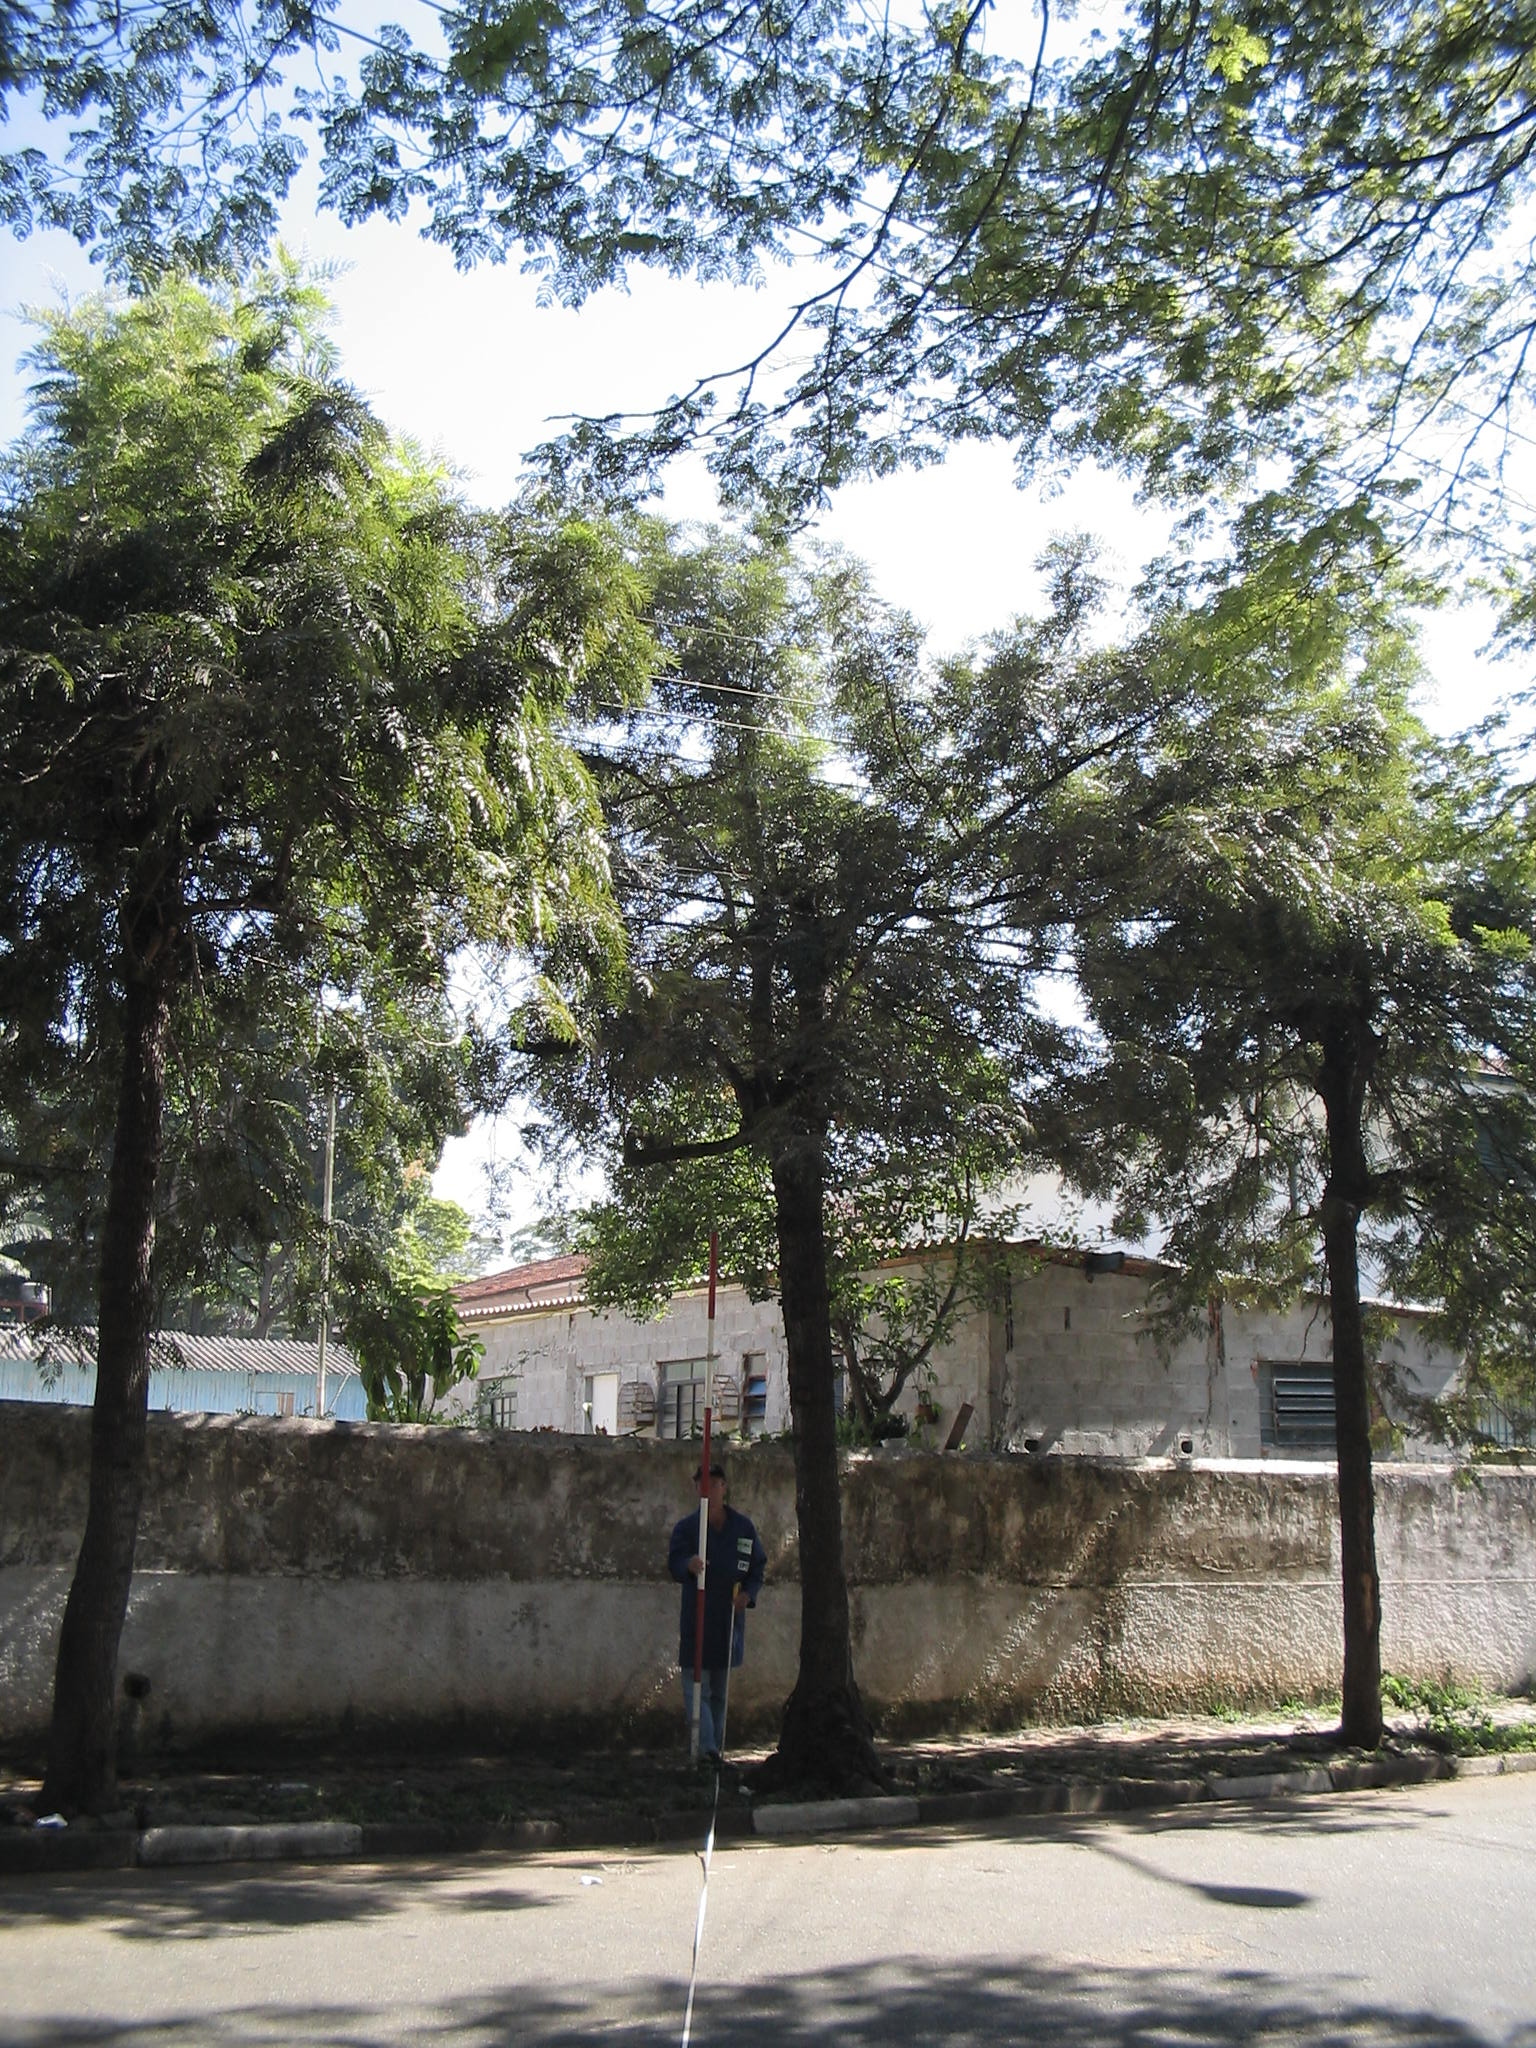crown: (6, 261, 650, 1021), (544, 524, 1136, 1221), (1091, 645, 1528, 1116)
stem: (32, 903, 244, 1813), (724, 1129, 908, 1792), (1258, 1076, 1433, 1740)
stick: (658, 1227, 752, 1766)
tree: (2, 255, 658, 1817), (536, 513, 1142, 1796), (1083, 634, 1530, 1742)
